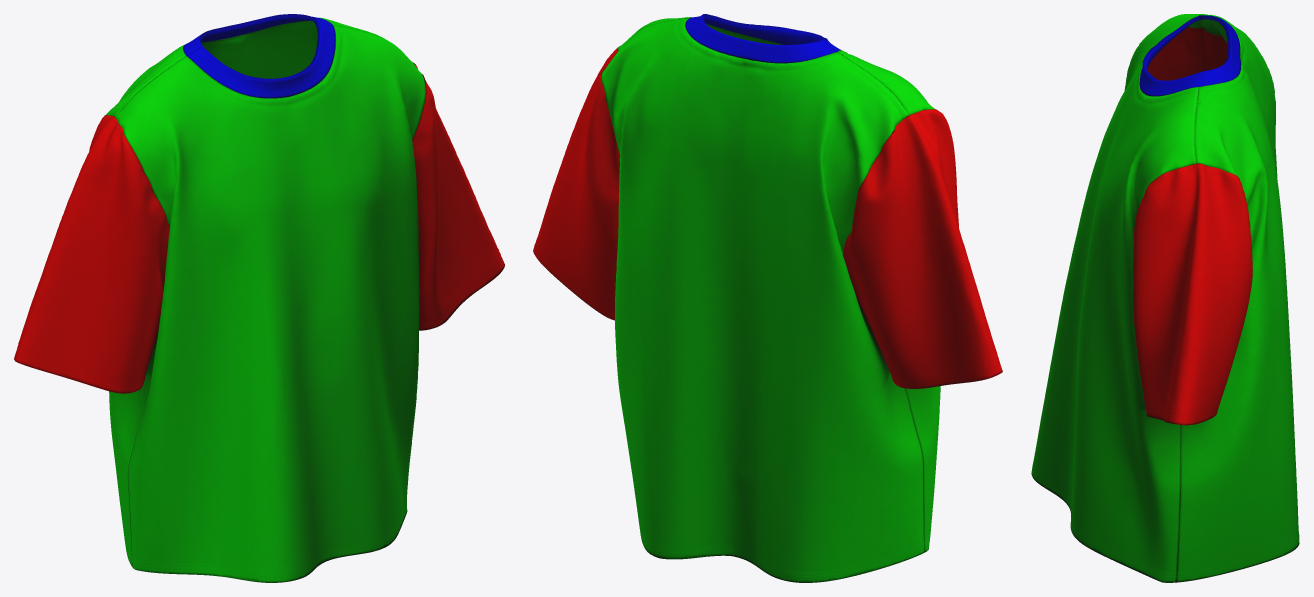
The model's file is Tshirt_Oversized.glb.
3 views of the same model, side by side, from view 1: azimuth 30°, elevation 25°; view 2: azimuth 150°, elevation 25°; view 3: azimuth 270°, elevation 25° (orthographic). The views are drawn at different scales.
Visible parts, largest first — view 1: Oversized; view 2: Oversized; view 3: Oversized.
Part boxes in pixels (x1=…): Oversized: x1=14, y1=14, x2=504, y2=582; Oversized: x1=533, y1=14, x2=1002, y2=582; Oversized: x1=1031, y1=14, x2=1299, y2=582.
Bounding box in the file's own units: 0.7426 × 0.7491 × 0.3779.
1 material, 1 textured.
